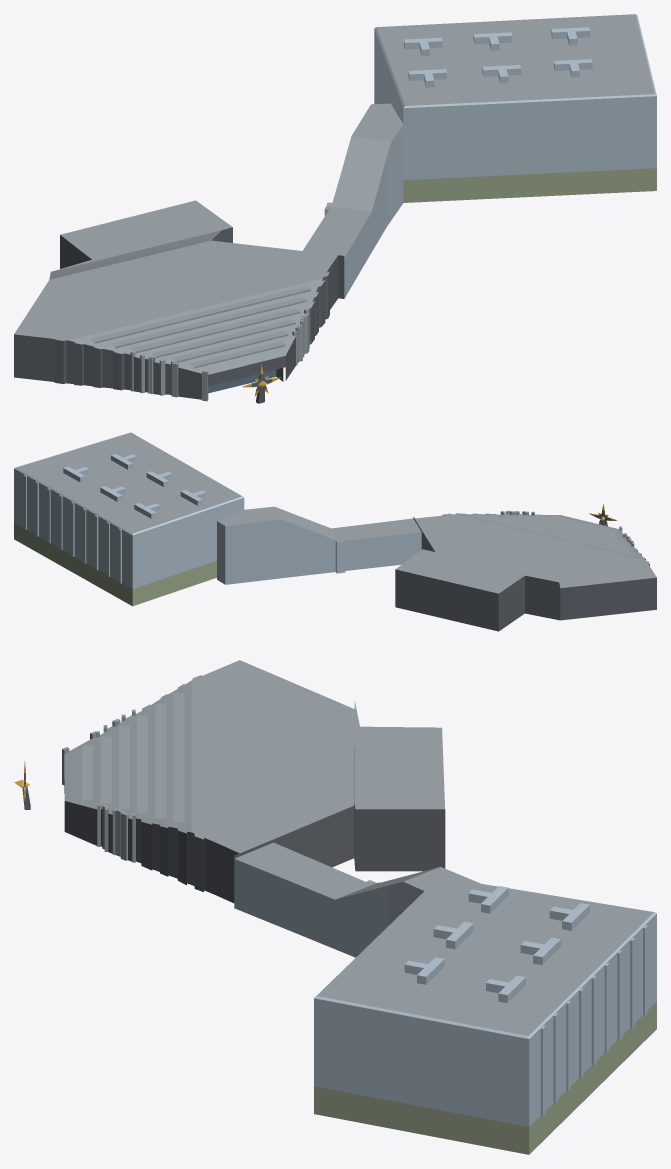
Rendered from detail.glb.
The picture shows the model from 3 angles, top to bottom: view 1: azimuth 30°, elevation 25°; view 2: azimuth 150°, elevation 25°; view 3: azimuth 270°, elevation 25°; orthographic projection. The views are drawn at different scales.
Parts seen in each view (by area): view 1: guardians-of-the-galaxy-cosmic-rewind-walt-disney-world; view 2: guardians-of-the-galaxy-cosmic-rewind-walt-disney-world; view 3: guardians-of-the-galaxy-cosmic-rewind-walt-disney-world.
Part boxes in pixels (box(x1,y1,x2,y2)): guardians-of-the-galaxy-cosmic-rewind-walt-disney-world: box(14, 14, 656, 403); guardians-of-the-galaxy-cosmic-rewind-walt-disney-world: box(14, 432, 656, 631); guardians-of-the-galaxy-cosmic-rewind-walt-disney-world: box(14, 660, 656, 1154).
Bounding box in the file's own units: 306 × 40.6 × 188.
